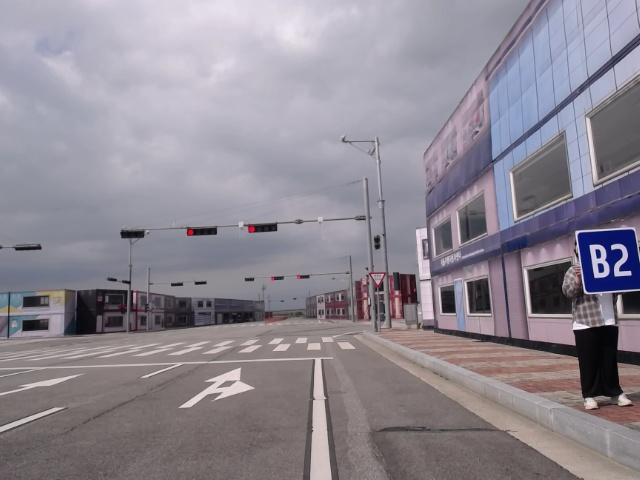delivery_b2: (574, 228, 639, 294)
red_4: (246, 221, 279, 234), (184, 225, 219, 236), (270, 275, 286, 282), (296, 273, 312, 280)
